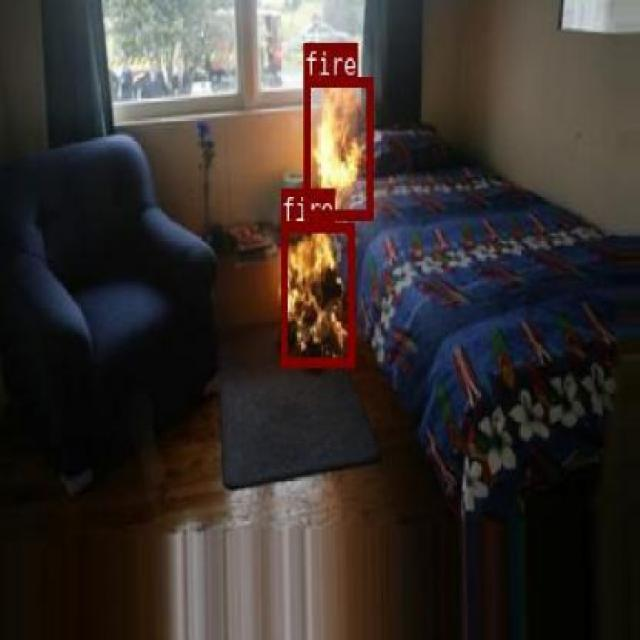Fire: (280, 222, 354, 366), (303, 75, 372, 217)
